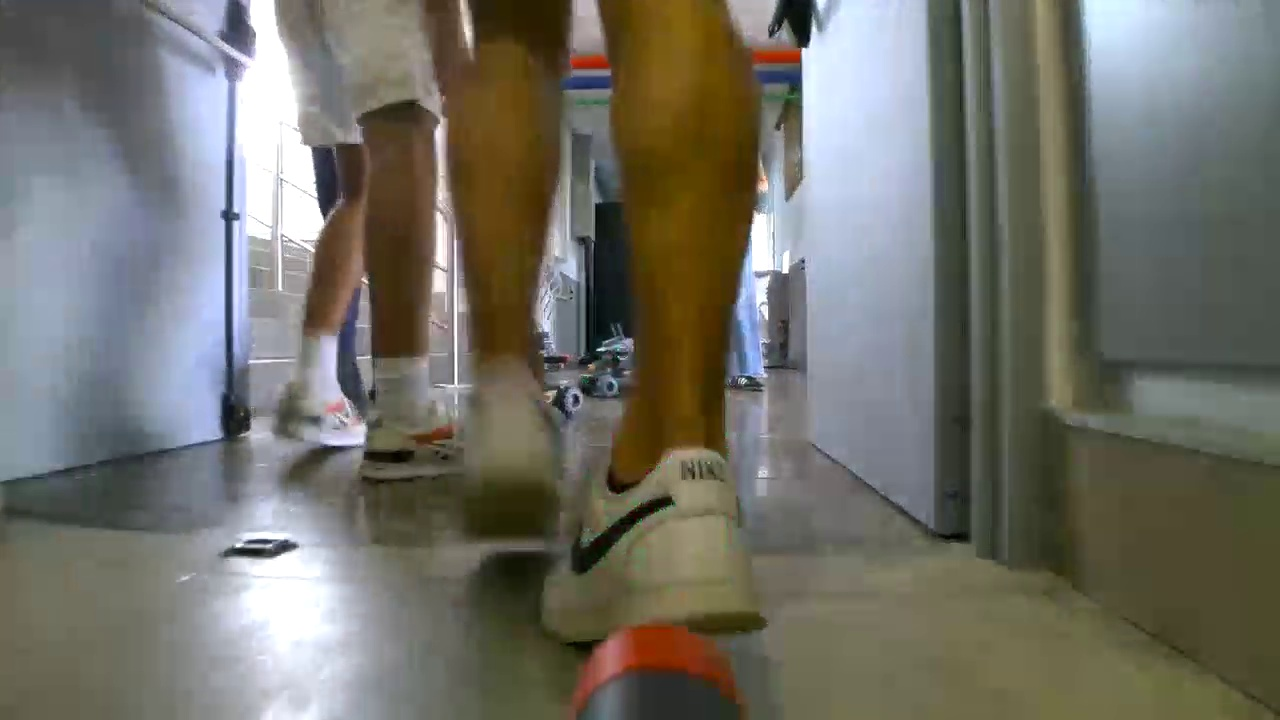robot: (514, 326, 585, 426), (577, 317, 637, 409)
